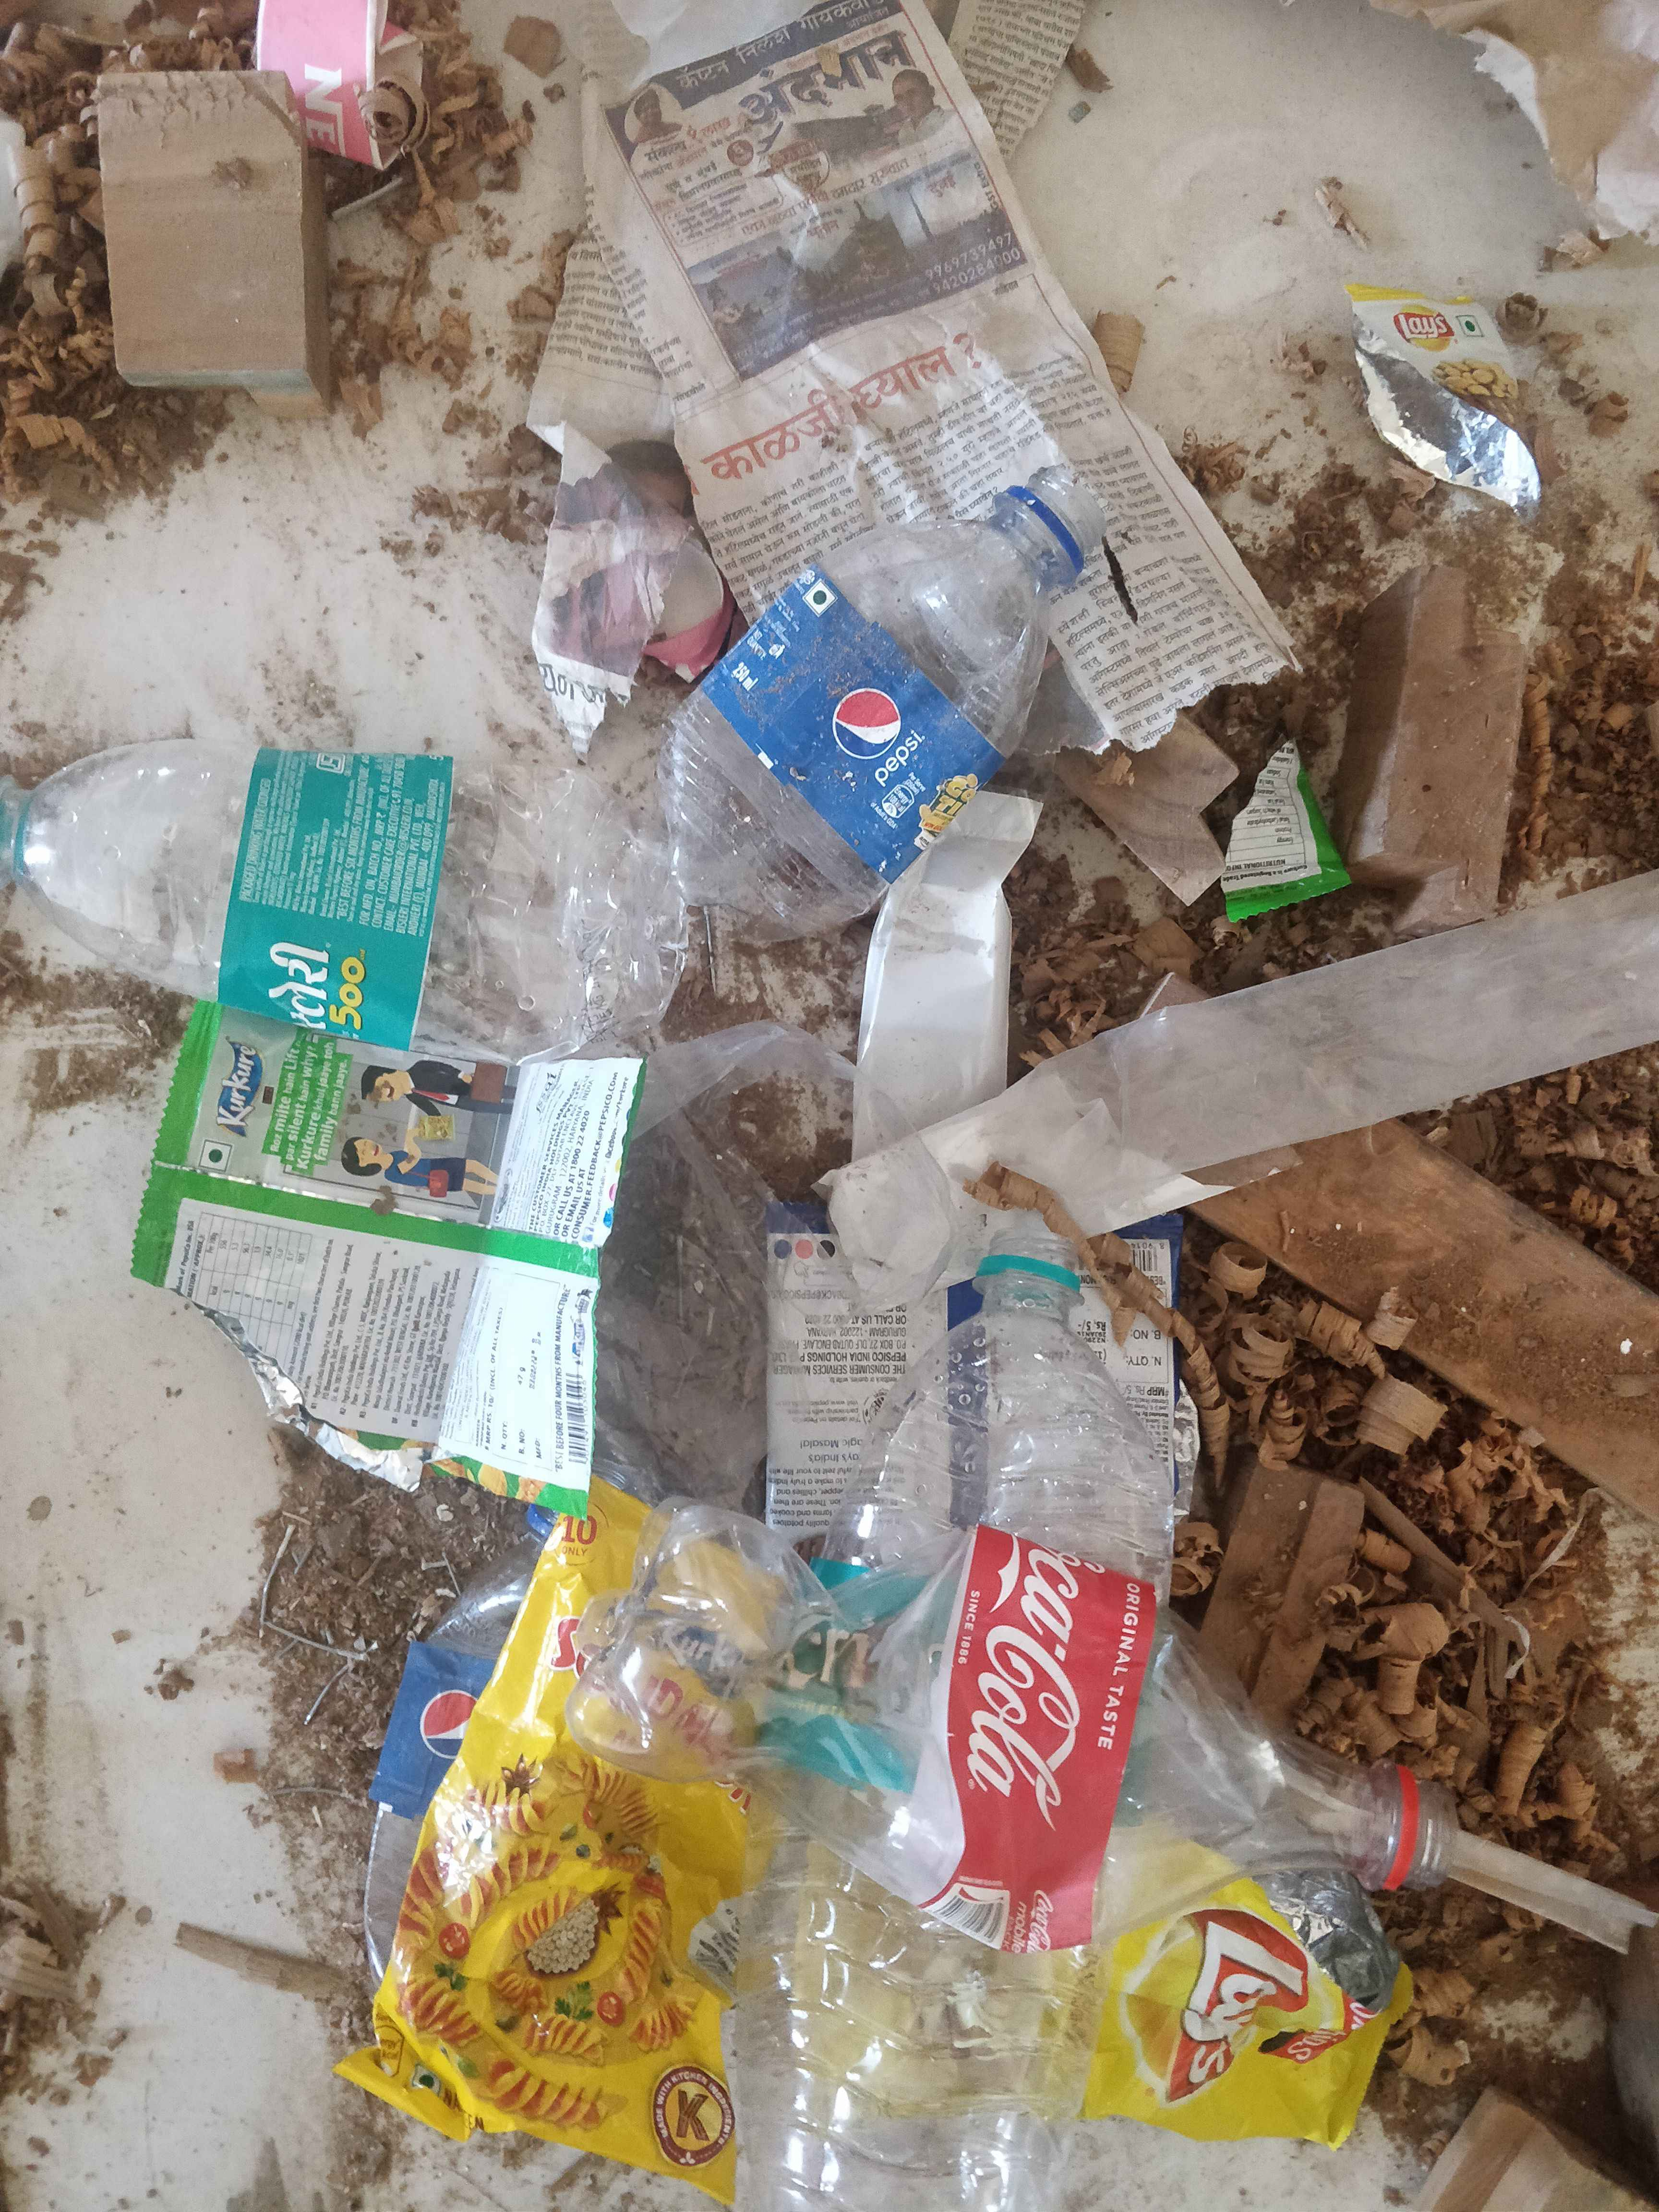Bisleri: (256, 747, 422, 1062), (798, 1564, 911, 1810)
Coca-Cola: (967, 1505, 1124, 1893)
Lays: (1134, 1865, 1351, 2113), (1382, 294, 1488, 368)
kurkure: (634, 1590, 791, 1696), (220, 1024, 288, 1132)
pepsi: (802, 665, 967, 833), (408, 1660, 483, 1770)
